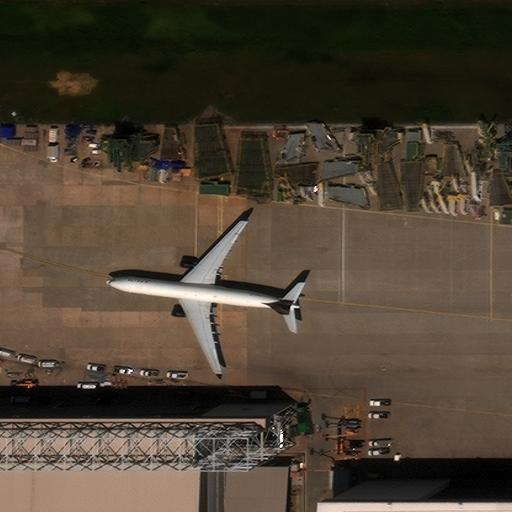Large Civil Transport: (103, 219, 302, 375)
